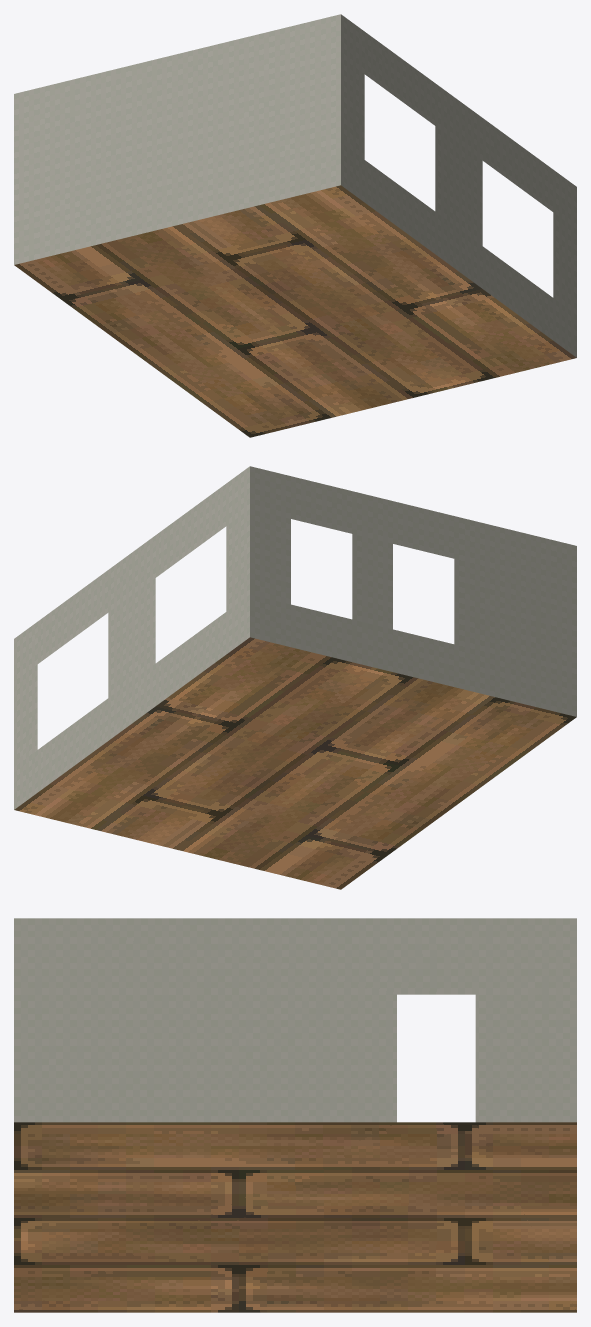
Rendered from travel_agency_room.glb.
3 views of the same model, one above another, from view 1: azimuth 30°, elevation 25°; view 2: azimuth 150°, elevation 25°; view 3: azimuth 270°, elevation 25° (orthographic). The views are drawn at different scales.
Visible parts, largest first — view 1: TravelAgency_Room; view 2: TravelAgency_Room; view 3: TravelAgency_Room.
Part boxes in pixels (bbox=[...]): TravelAgency_Room: bbox=[14, 14, 576, 437]; TravelAgency_Room: bbox=[14, 466, 576, 889]; TravelAgency_Room: bbox=[14, 918, 576, 1312].
Bounding box in the file's own units: 8 × 4 × 10.
Materials: 3 (3 with a texture image).
